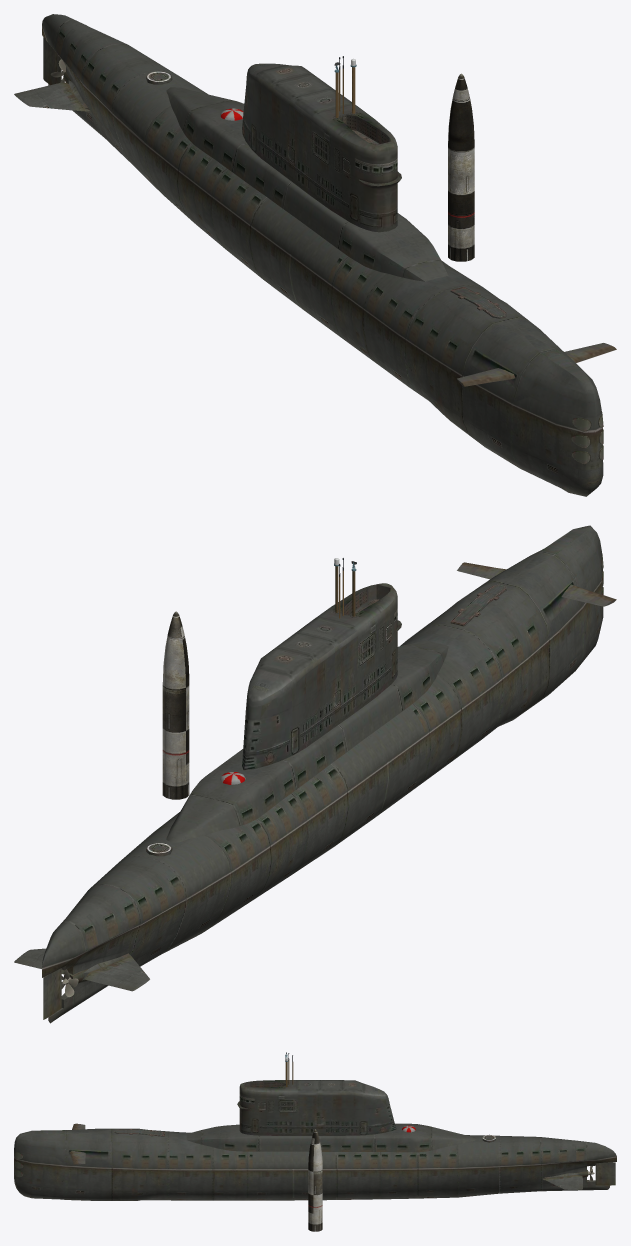
File: submarine_low_poly.glb
The picture shows the model from 3 angles, top to bottom: view 1: azimuth 30°, elevation 25°; view 2: azimuth 150°, elevation 25°; view 3: azimuth 270°, elevation 25°; orthographic projection. The views are drawn at different scales.
Visible parts, largest first — view 1: Material1 (×2); view 2: Material1 (×2); view 3: Material1 (×2).
Part boxes in pixels (x1,y1,x2,y2): Material1 (×2): [14, 14, 616, 496]; Material1 (×2): [14, 525, 616, 1023]; Material1 (×2): [14, 1052, 616, 1231].
Size of the model in its own units: 393 by 435 by 1637.
Materials: 2 (2 with a texture image).
